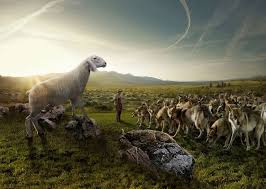sheep: (22, 54, 108, 135), (225, 103, 264, 151), (204, 117, 232, 149), (164, 103, 184, 138)
